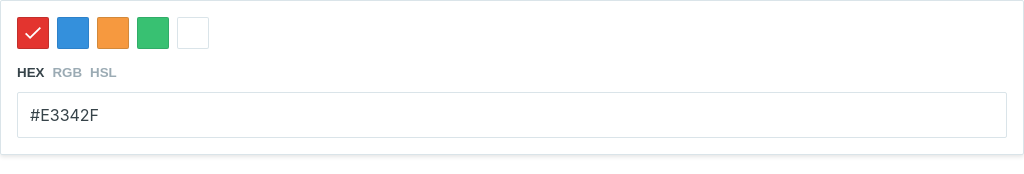
Test: ColorPicker › Color code › displays the code in the right mode when changing mode
Click the button with class "color-mode-hsl" at (103, 72), box 90,65 -> 117,80
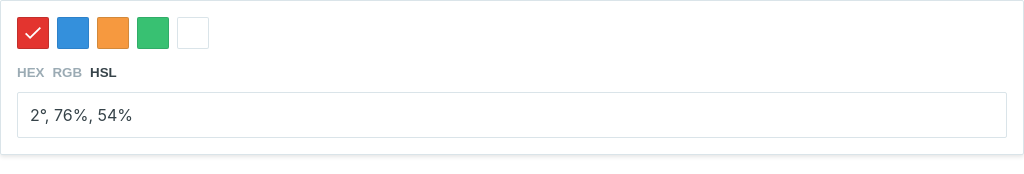
Expected: the text with class "color-code" reads "2°, 76%, 54%", 30,105 -> 133,125
